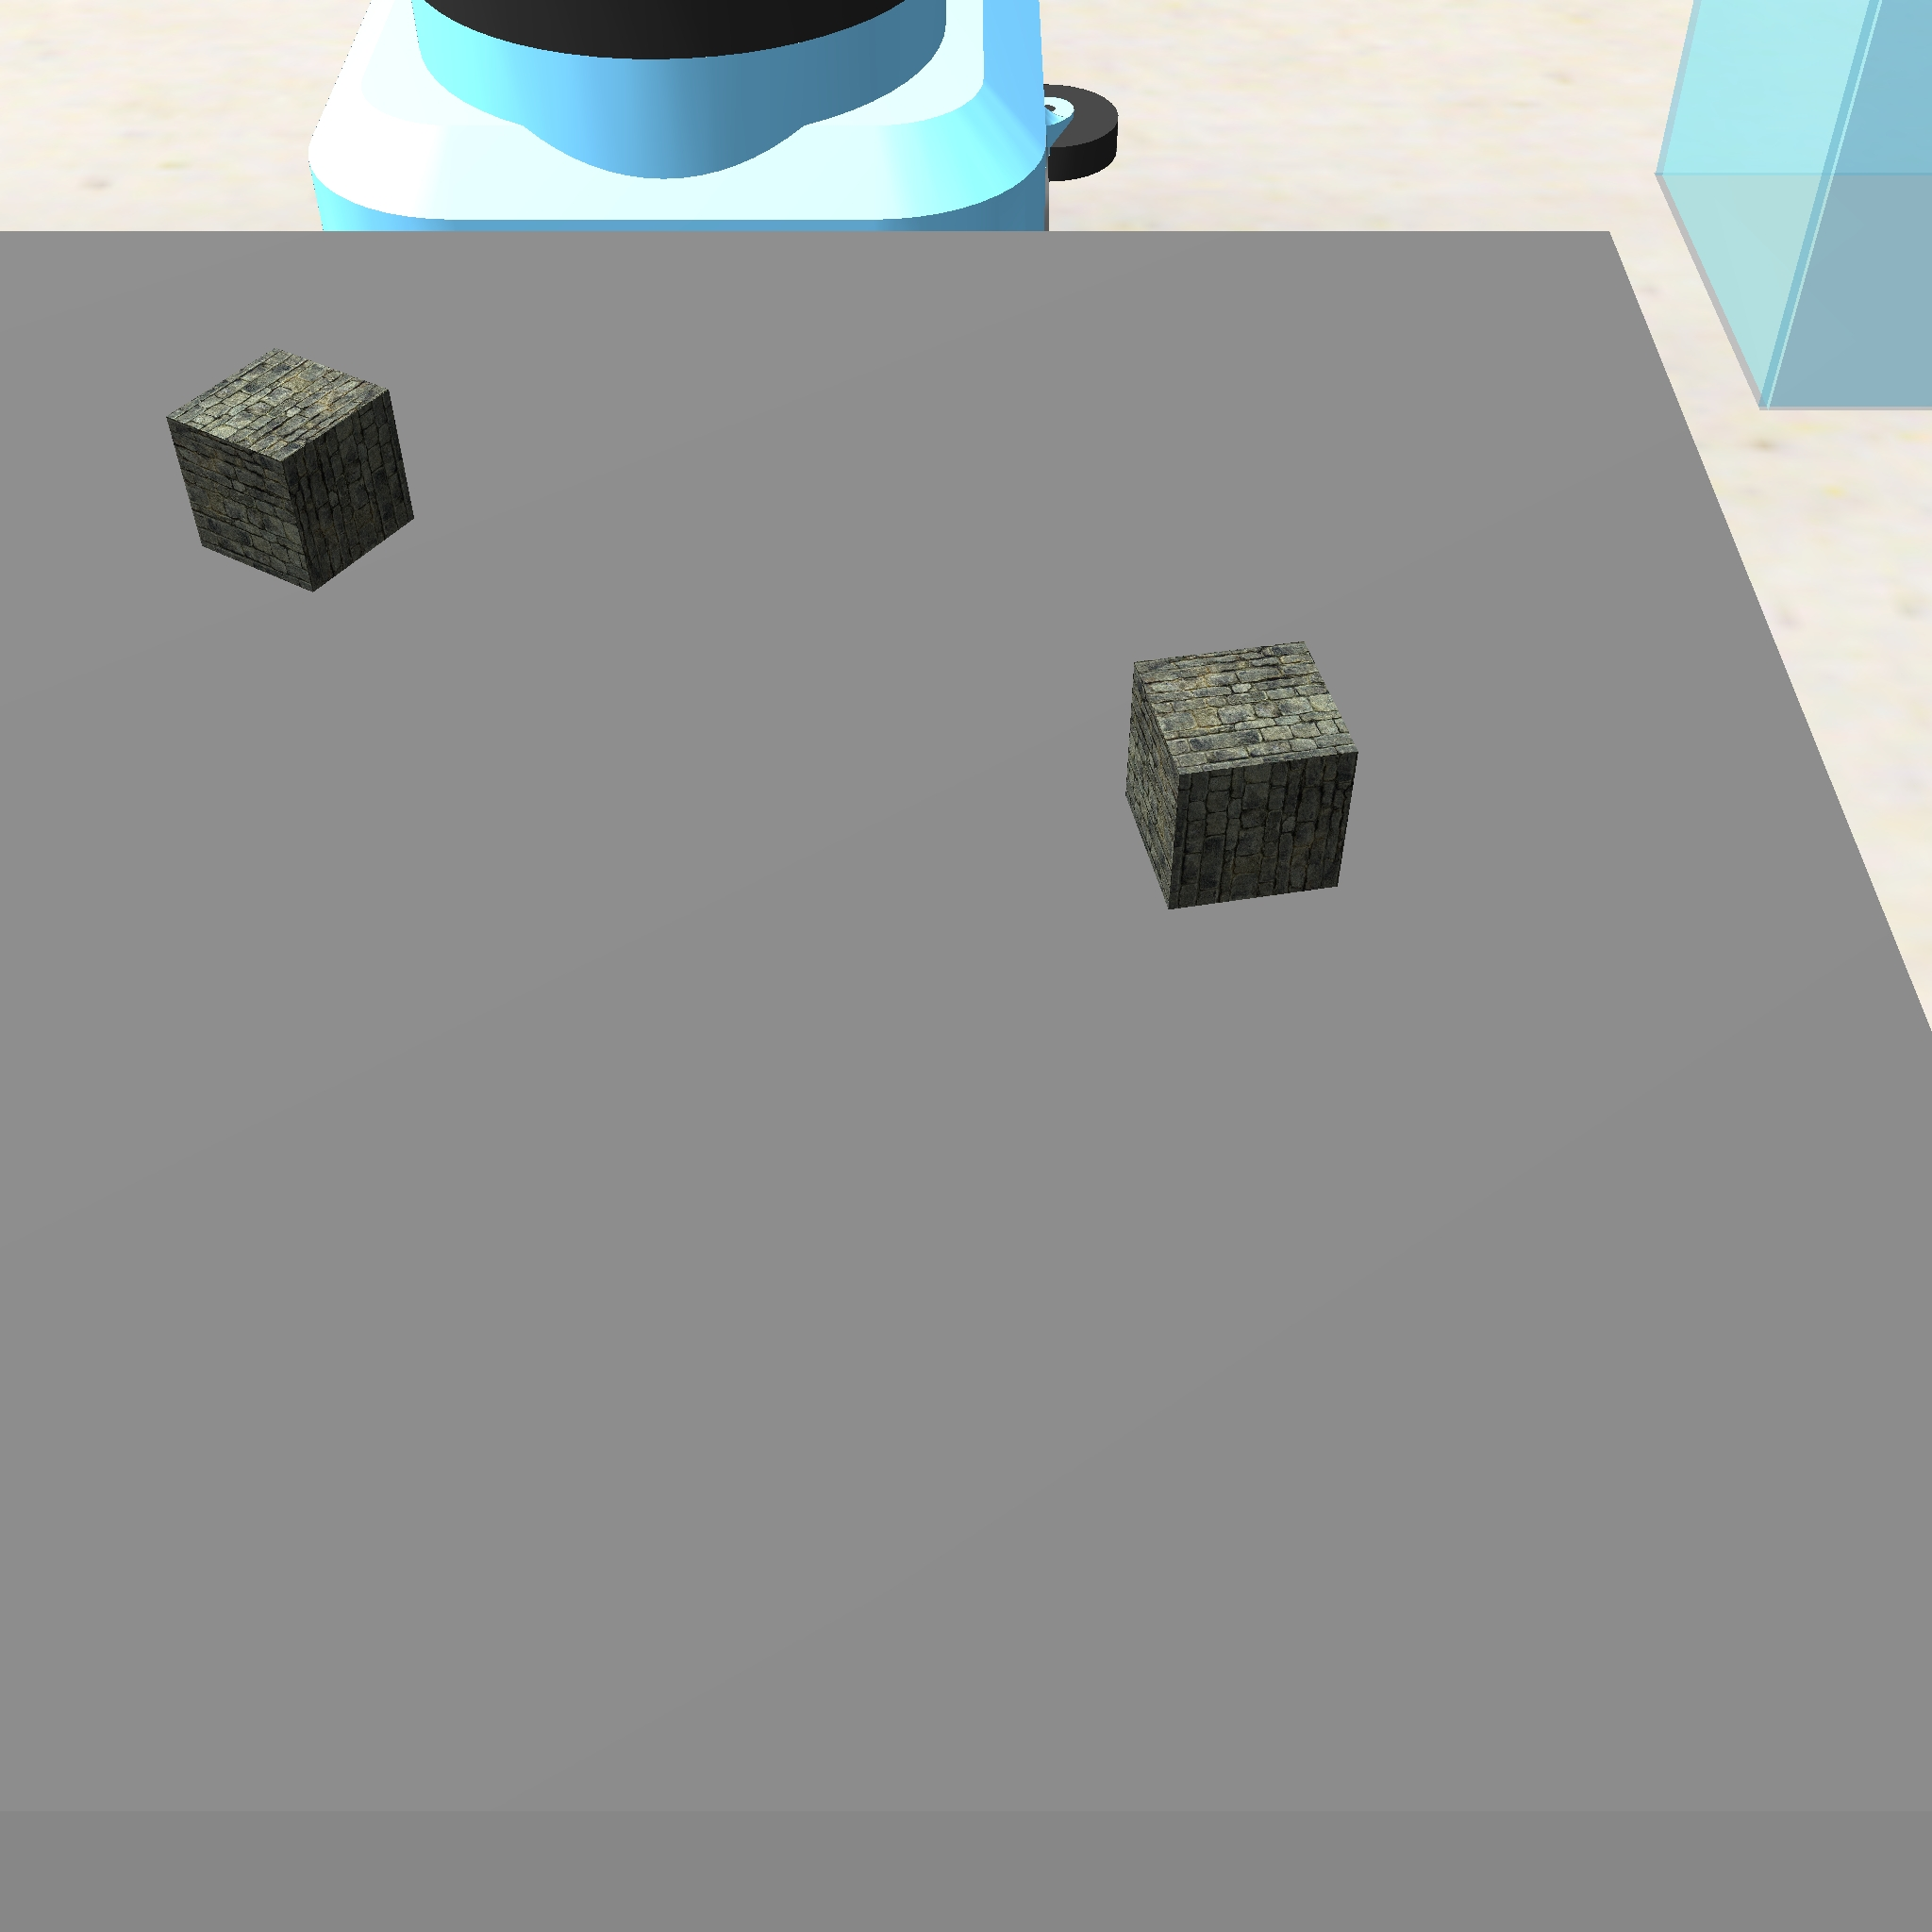cube: (1116, 630, 1368, 918), (159, 343, 430, 603)
